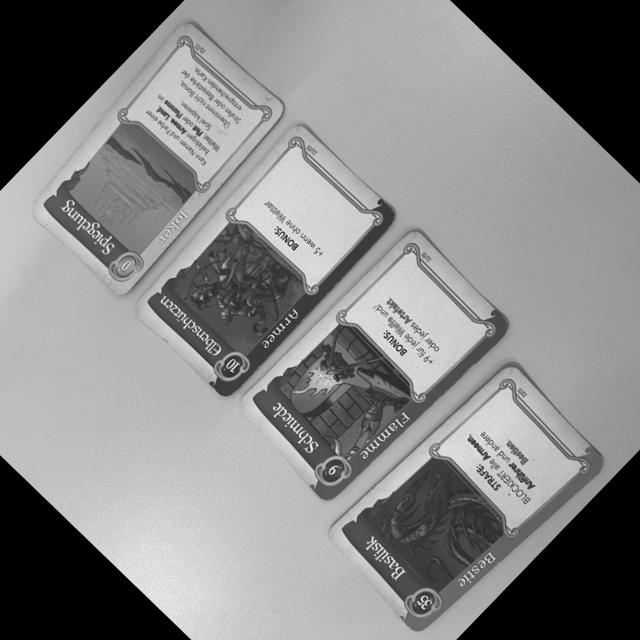Basilisk: (327, 360, 611, 638)
Elven Archers: (125, 119, 404, 402)
Forge: (235, 229, 514, 502)
Mirage: (23, 12, 296, 302)
